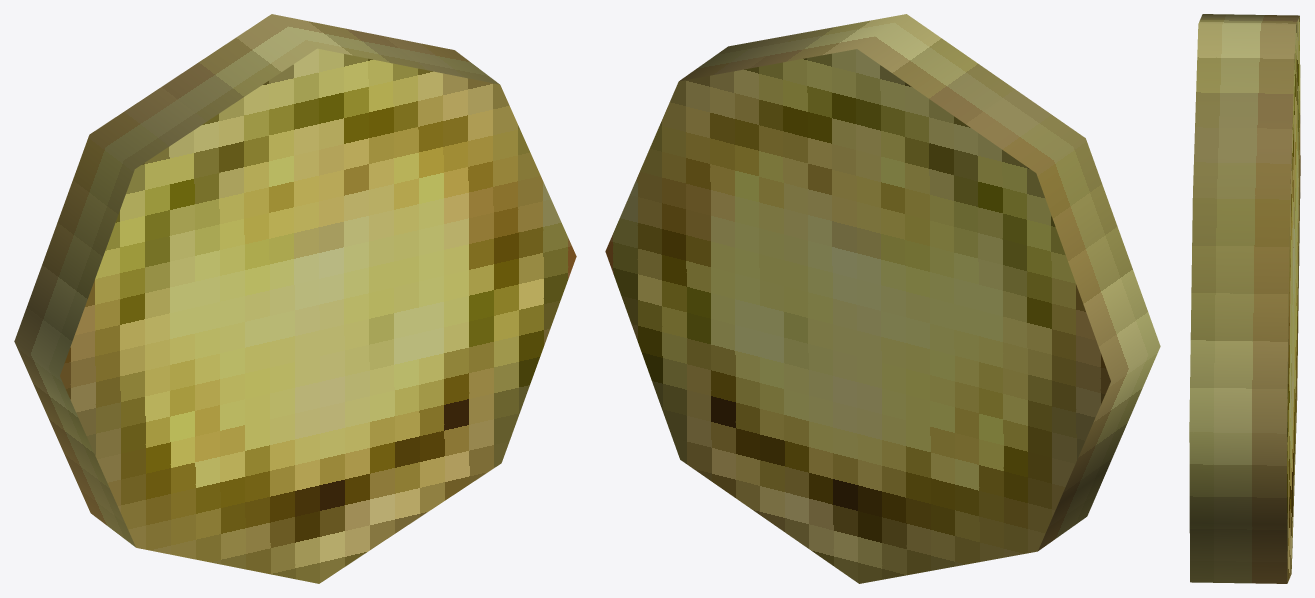
Rendered from sulgold.glb.
The picture shows the model from 3 angles, left to right: view 1: azimuth 30°, elevation 25°; view 2: azimuth 150°, elevation 25°; view 3: azimuth 270°, elevation 25°; orthographic projection. The views are drawn at different scales.
Parts seen in each view (by area): view 1: model_sulgold; view 2: model_sulgold; view 3: model_sulgold.
Boxes of the visible parts, x1,y1,x2,y2 form: model_sulgold: [14, 14, 576, 583]; model_sulgold: [605, 14, 1160, 583]; model_sulgold: [1189, 14, 1300, 583].
Bounding box in the file's own units: 0.0708 × 0.0706 × 0.013.
1 material, 1 textured.
